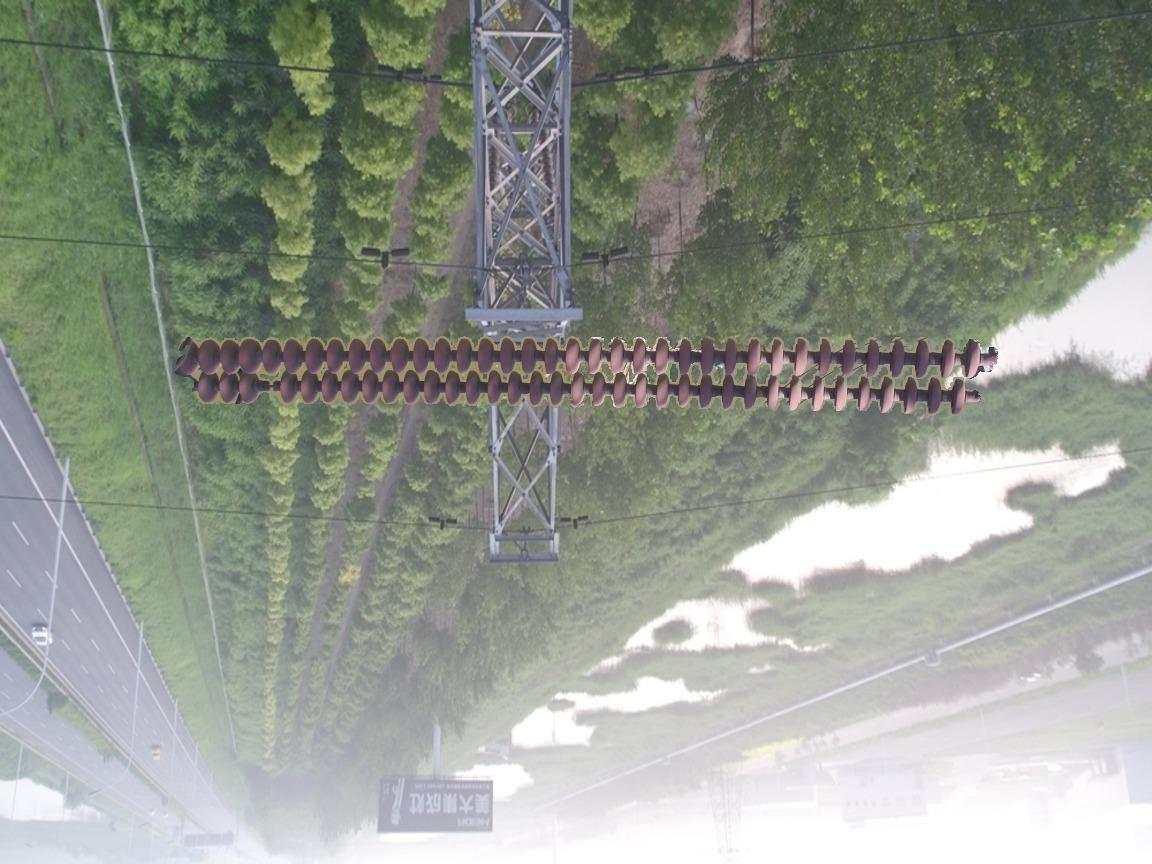insulator: (170, 329, 987, 419), (537, 125, 557, 194)
insulator_stringdrop: (235, 369, 302, 406)
